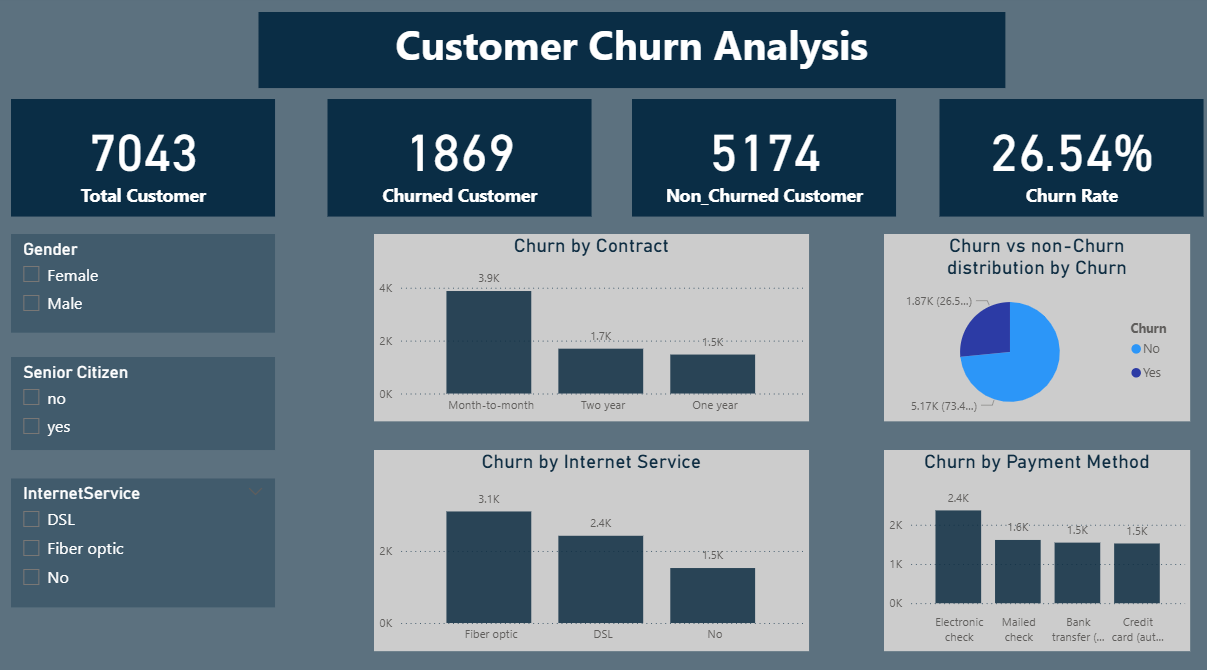

What the dashboard file says about the page in this screenshot:
{"tool":"powerbi","page":{"name":"Page 1","canvas":[1280,720],"ordinal":0},"visuals":[{"type":"card","fields":{"Values":["Telco-Customer-Churn.Total Customer"]},"box":[13,111.7,280.1,124.7],"z":0},{"type":"card","fields":{"Values":["Telco-Customer-Churn.Churned Customer"]},"box":[348.1,111.7,280.1,124.7],"z":1000},{"type":"card","fields":{"Values":["Telco-Customer-Churn.Non_Churned Customer"]},"box":[672,111.7,280.1,124.7],"z":2000},{"type":"card","fields":{"Values":["Telco-Customer-Churn.Churn Rate"]},"box":[997.4,111.7,280.1,124.7],"z":3000},{"type":"pieChart","fields":{"Category":["Telco-Customer-Churn.Churn"],"Y":["CountNonNull(Telco-Customer-Churn.customerID)"]},"box":[938.5,254.5,324.5,198.8],"z":4000},{"type":"clusteredColumnChart","title":"Churn by Contract","fields":{"Y":["CountNonNull(Telco-Customer-Churn.Churn)"],"Category":["Telco-Customer-Churn.Contract"]},"box":[397.7,254.5,461.3,198.8],"z":5000},{"type":"textbox","box":[275.3,19.4,791.8,81],"z":6001},{"type":"clusteredColumnChart","title":"Churn by Payment Method","fields":{"Category":["Telco-Customer-Churn.PaymentMethod"],"Y":["CountNonNull(Telco-Customer-Churn.Churn)"]},"box":[938.5,483.5,324.5,213.1],"z":6002},{"type":"slicer","fields":{"Values":["Telco-Customer-Churn.gender"]},"box":[12.7,254.5,279.9,105],"z":6003},{"type":"slicer","fields":{"Values":["Telco-Customer-Churn.SeniorCitizen"]},"box":[12.7,384.9,279.9,98.6],"z":6004},{"type":"slicer","fields":{"Values":["Telco-Customer-Churn.InternetService"]},"box":[12.7,513.8,279.9,136.8],"z":6005},{"type":"columnChart","title":"Churn by Internet Service","fields":{"Category":["Telco-Customer-Churn.InternetService"],"Y":["CountNonNull(Telco-Customer-Churn.Churn)"]},"box":[397.7,483.5,461.3,213.1],"z":6006}]}

Visuals, with their boxes in screenshot pixels (x1, y1, x2, y2), scaled from the page's 1280x720 canvas onto the 1207x670 screenshot:
card - Telco-Customer-Churn.Total Customer: 12, 104, 276, 220
card - Telco-Customer-Churn.Churned Customer: 328, 104, 592, 220
card - Telco-Customer-Churn.Non_Churned Customer: 634, 104, 898, 220
card - Telco-Customer-Churn.Churn Rate: 941, 104, 1205, 220
pieChart - Telco-Customer-Churn.Churn x CountNonNull(Telco-Customer-Churn.customerID): 885, 237, 1191, 422
"Churn by Contract" clusteredColumnChart: 375, 237, 810, 422
textbox: 260, 18, 1006, 93
"Churn by Payment Method" clusteredColumnChart: 885, 450, 1191, 648
slicer - Telco-Customer-Churn.gender: 12, 237, 276, 335
slicer - Telco-Customer-Churn.SeniorCitizen: 12, 358, 276, 450
slicer - Telco-Customer-Churn.InternetService: 12, 478, 276, 605
"Churn by Internet Service" columnChart: 375, 450, 810, 648
